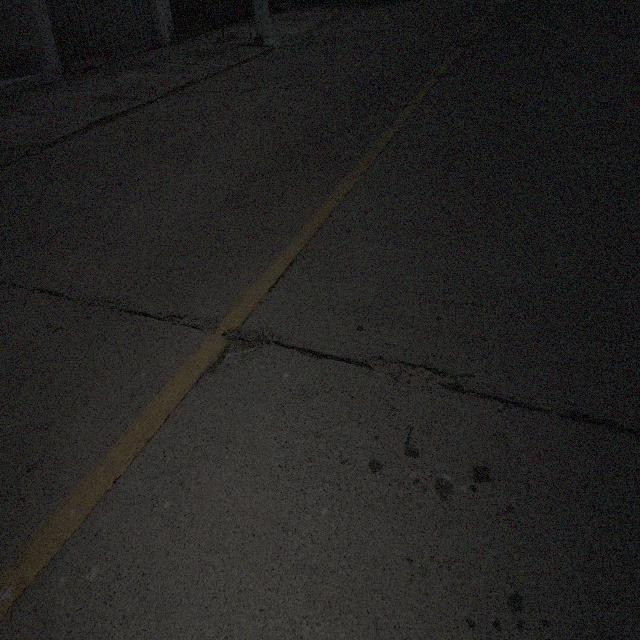pothole: (211, 320, 277, 379), (367, 350, 447, 393)
